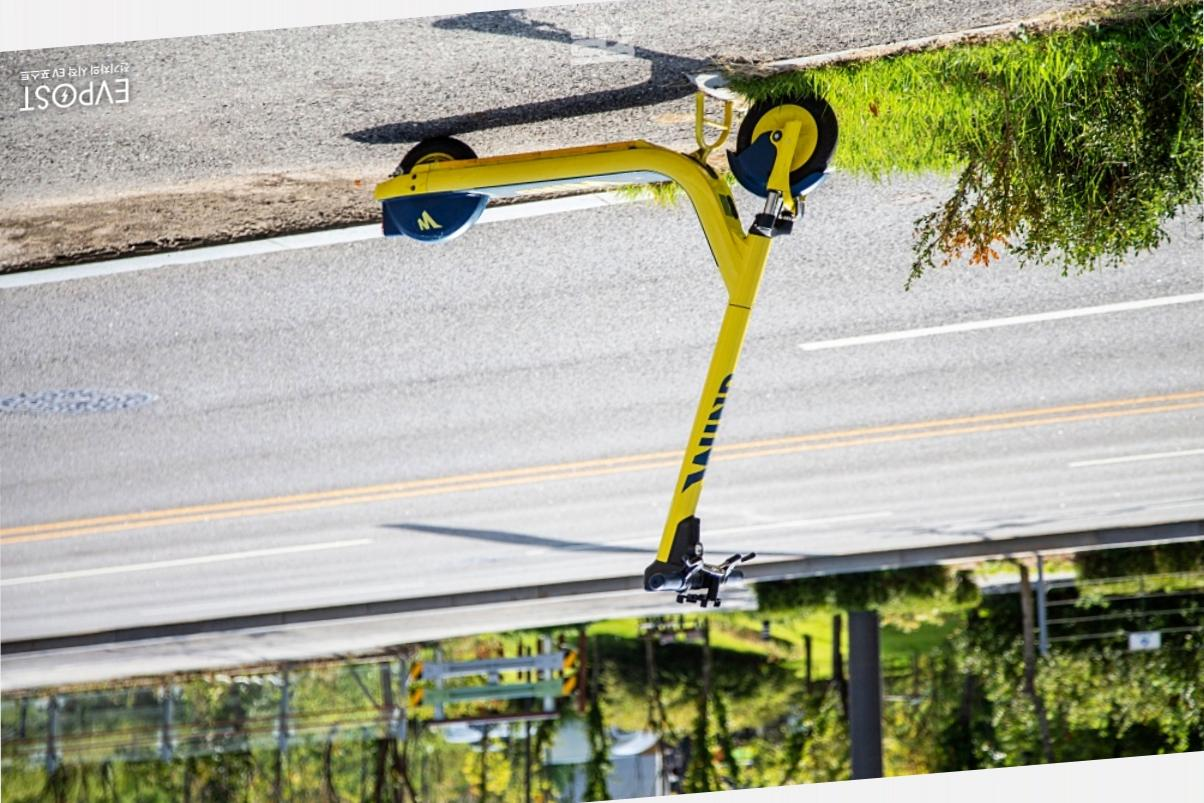scooter: (372, 86, 839, 607)
